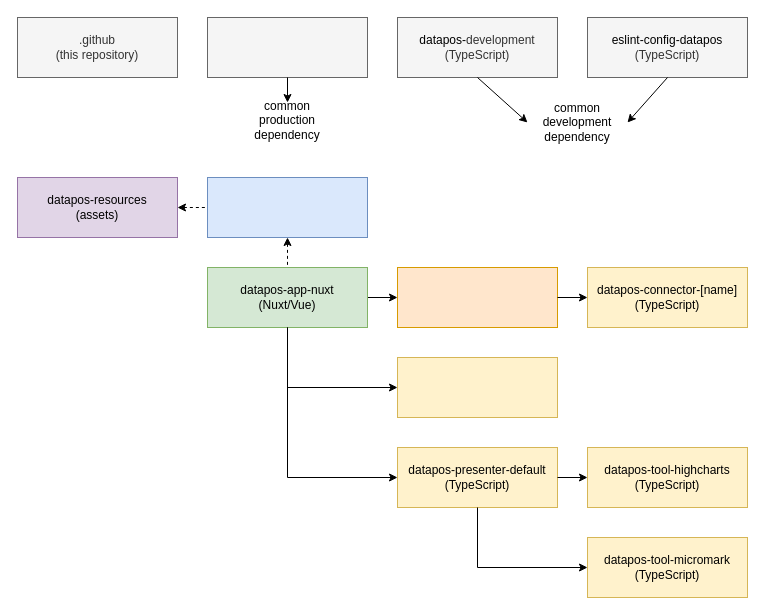
Image size: 765x615. Some labels were removed from this diagram. The centre of each missing label's shape, as x and y in pixels:
"datapos- api (TypeScript)" belongs at (x=287, y=207).
"datapos- context-default (TypeScript)" belongs at (x=477, y=387).
"datapos- engine (TypeScript / Rust)" belongs at (x=477, y=297).
"datapos- shared (TypeScript)" belongs at (x=287, y=47).
